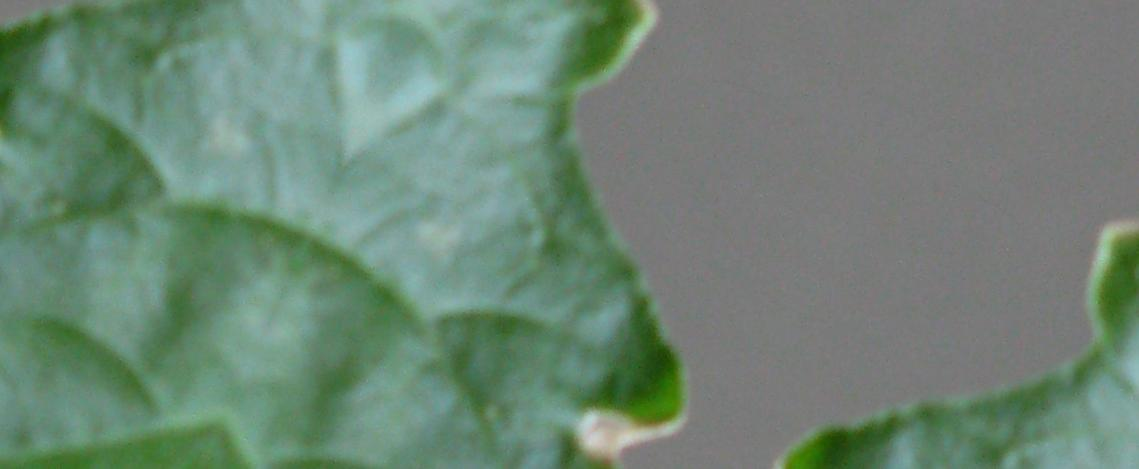Tomato leaf: (115, 0, 1024, 469)
